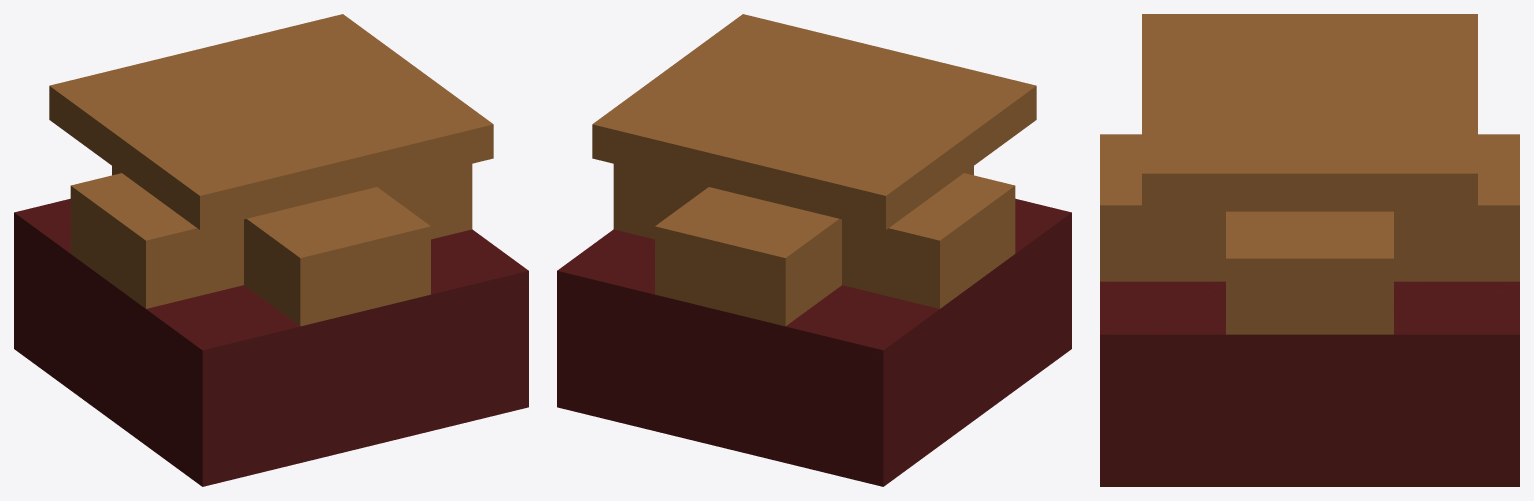
The model's file is BouncingTower0_Bottom.obj.
3 renders of one model, left to right at view 1: azimuth 30°, elevation 25°; view 2: azimuth 150°, elevation 25°; view 3: azimuth 270°, elevation 25°, orthographic. The views are drawn at different scales.
Parts seen in each view (by area): view 1: BouncingTower0_Bottom; view 2: BouncingTower0_Bottom; view 3: BouncingTower0_Bottom.
Boxes of the visible parts, box(x1,y1,x2,y2) form: BouncingTower0_Bottom: box(14, 14, 528, 486); BouncingTower0_Bottom: box(557, 14, 1071, 486); BouncingTower0_Bottom: box(1100, 14, 1519, 486).
Bounding box in the file's own units: 20 × 16 × 20.
1 material, 1 textured.
